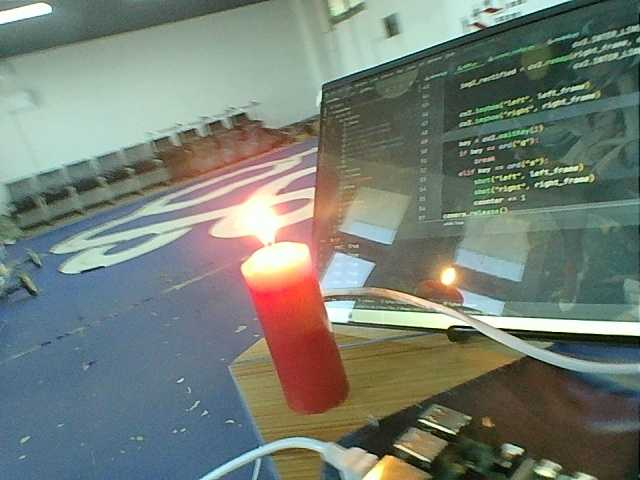candle: (241, 244, 356, 418)
fire: (236, 194, 294, 247), (435, 259, 462, 287)
